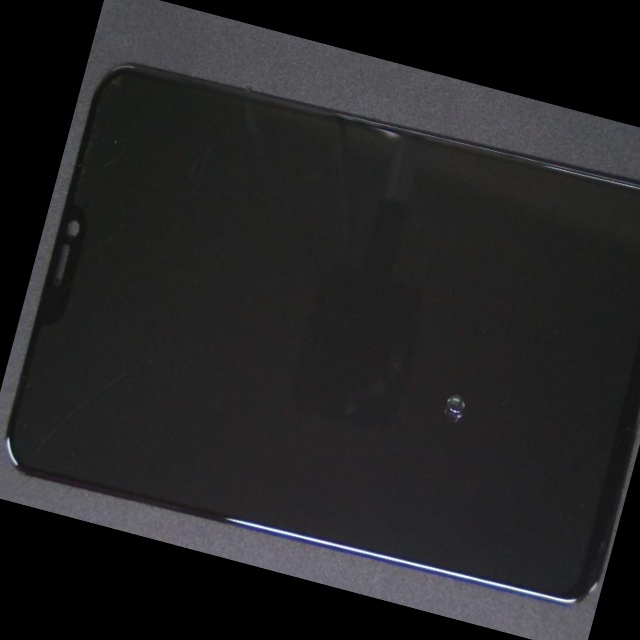oil: (218, 179, 640, 583)
